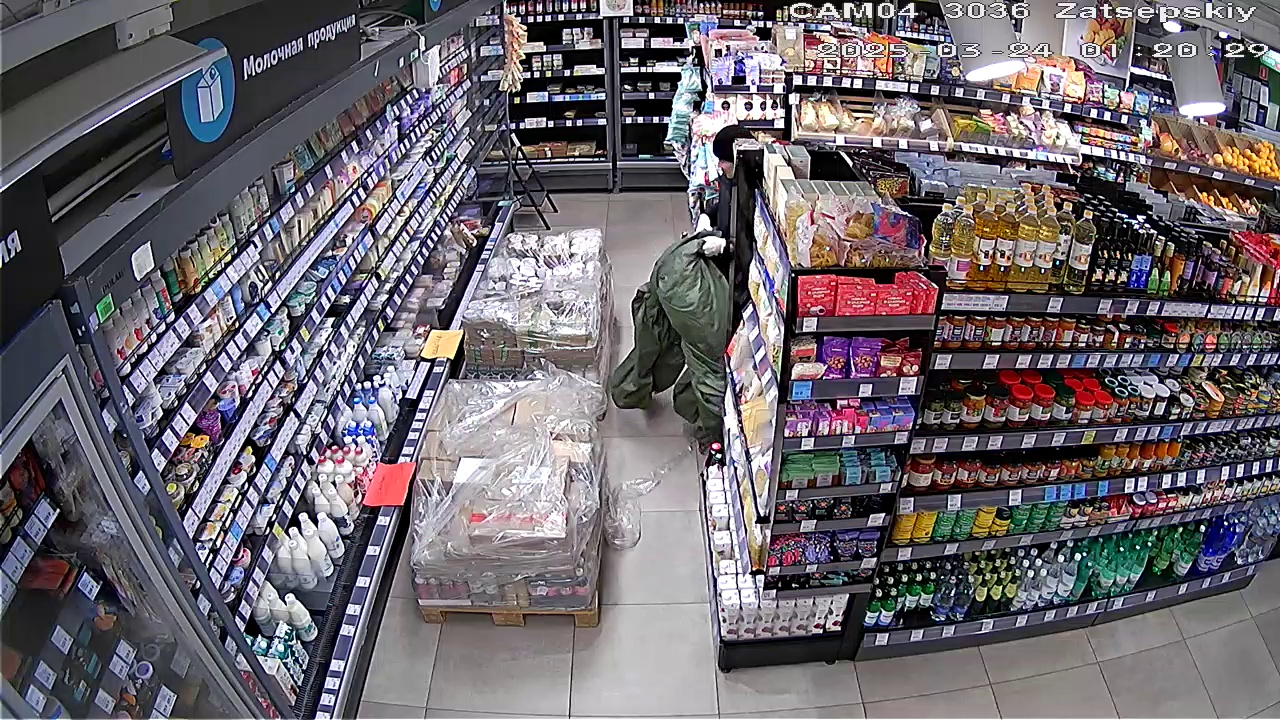Human: (687, 124, 749, 227)
pallet: (403, 370, 613, 616), (460, 229, 616, 374)
